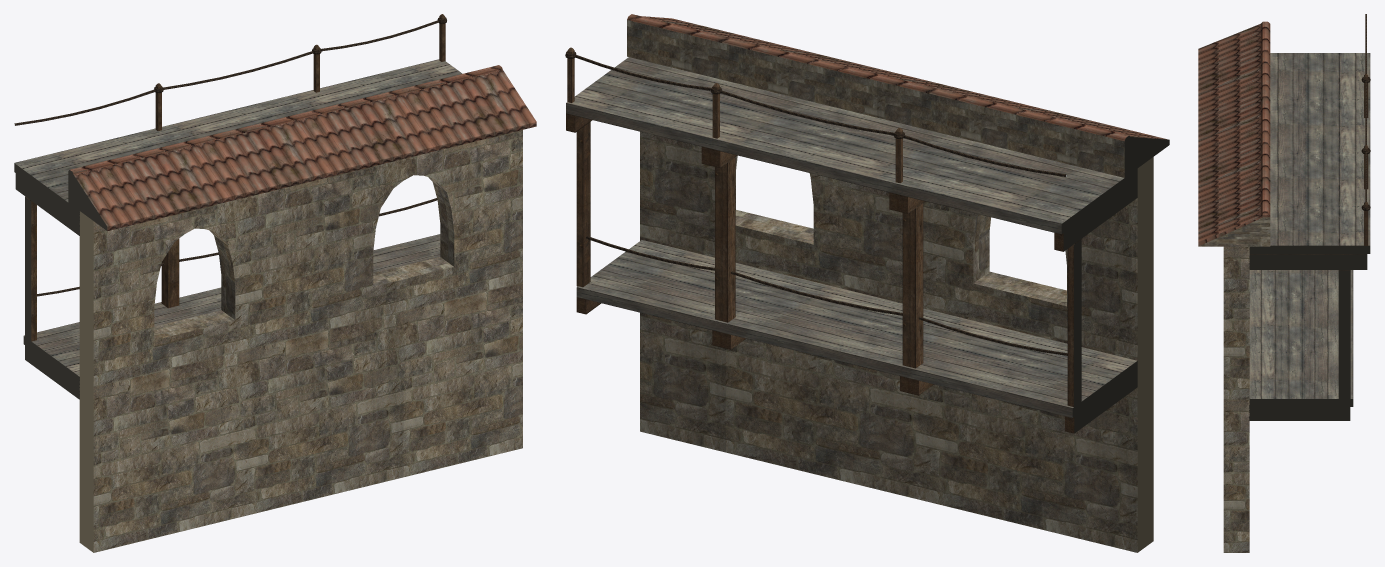
File: FortWallR2.dae
3 views of the same model, side by side, from view 1: azimuth 30°, elevation 25°; view 2: azimuth 150°, elevation 25°; view 3: azimuth 270°, elevation 25° (orthographic). The views are drawn at different scales.
Parts seen in each view (by area): view 1: forts_stone_copy111-0; view 2: forts_stone_copy111-0; view 3: forts_stone_copy111-0.
Part boxes in pixels (bbox=[...]): forts_stone_copy111-0: bbox=[14, 14, 536, 552]; forts_stone_copy111-0: bbox=[565, 14, 1169, 552]; forts_stone_copy111-0: bbox=[1198, 14, 1370, 552].
Size of the model in its own units: 10.67 by 8.92 by 3.99.
